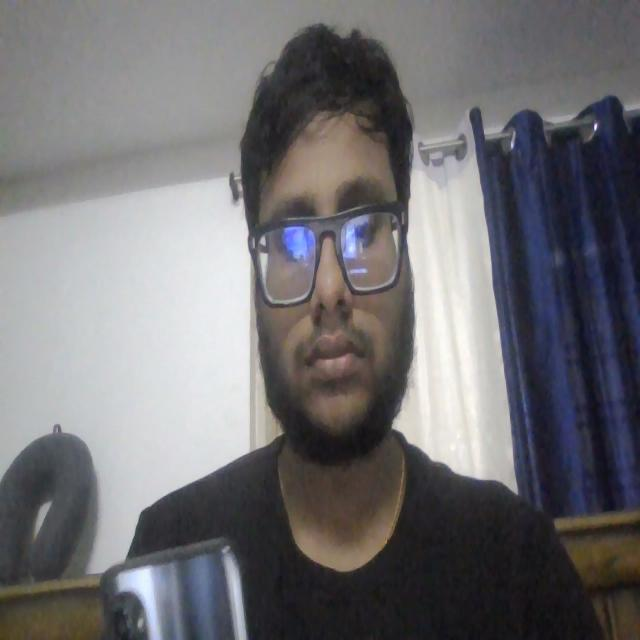phone: (100, 536, 239, 640)
